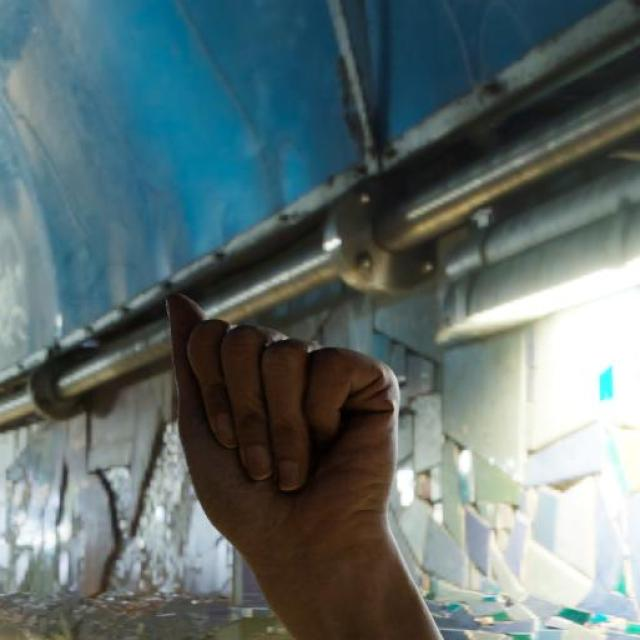A: (155, 281, 414, 571)
